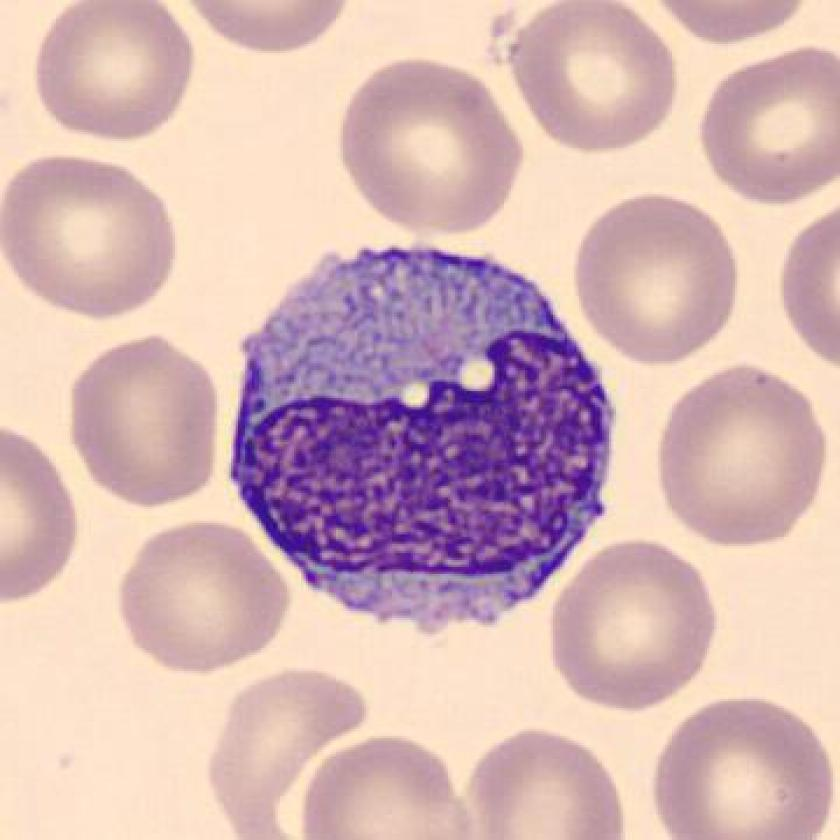monocyte: (216, 223, 631, 651)
